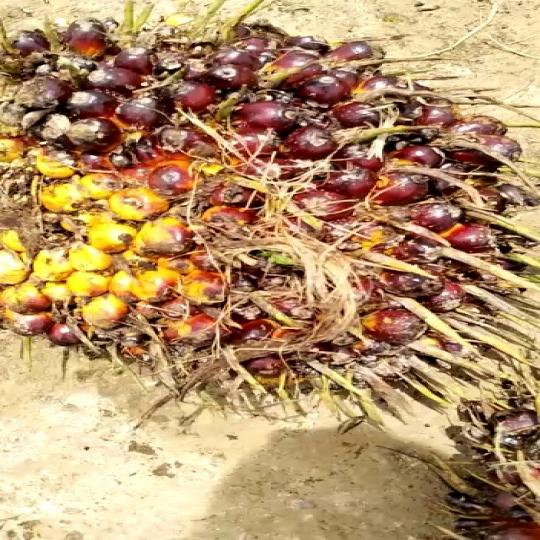kurang masak: (0, 5, 540, 419)
